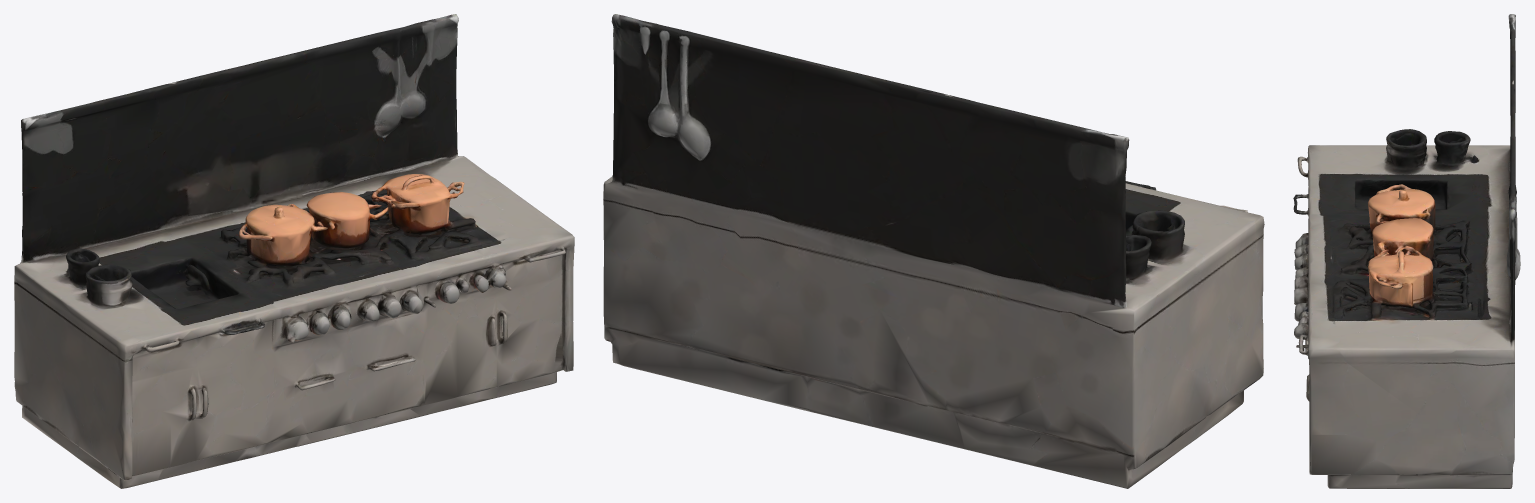
Rendered from culinary-chef-station.glb.
3 renders of one model, left to right at view 1: azimuth 30°, elevation 25°; view 2: azimuth 150°, elevation 25°; view 3: azimuth 270°, elevation 25°, orthographic. The views are drawn at different scales.
Size of the model in its own units: 2 by 1.26 by 0.9369.
Materials: 1 (1 with a texture image).
